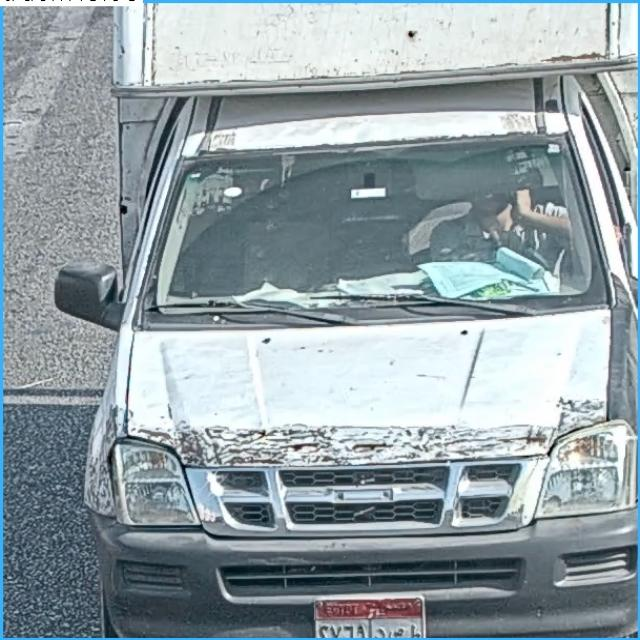windshield: (143, 158, 615, 308)
